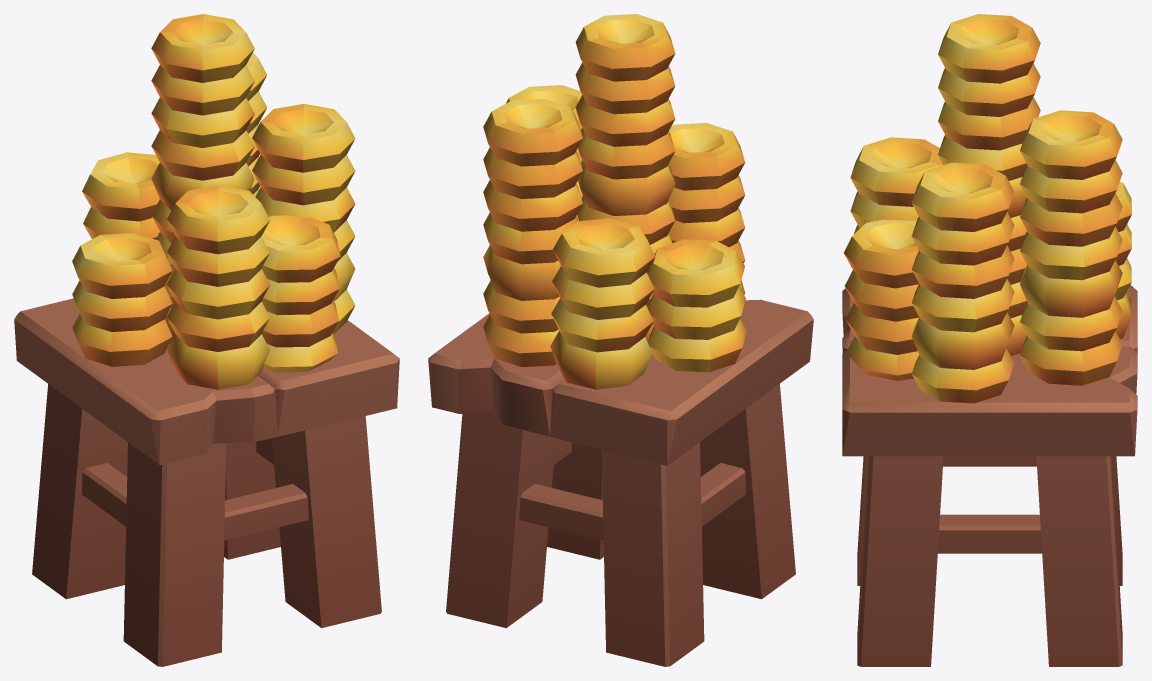
Rendered from table_small_decorated_B.obj.
The picture shows the model from 3 angles, left to right: view 1: azimuth 30°, elevation 25°; view 2: azimuth 150°, elevation 25°; view 3: azimuth 270°, elevation 25°; orthographic projection. The views are drawn at different scales.
Parts seen in each view (by area): view 1: table_small_decorated_B; view 2: table_small_decorated_B; view 3: table_small_decorated_B.
Boxes of the visible parts, box(x1,y1,x2,y2) form: table_small_decorated_B: box(14, 14, 399, 666); table_small_decorated_B: box(428, 14, 813, 666); table_small_decorated_B: box(842, 14, 1137, 666).
Size of the model in its own units: 1.01 by 2.16 by 1.
1 material, 1 textured.
